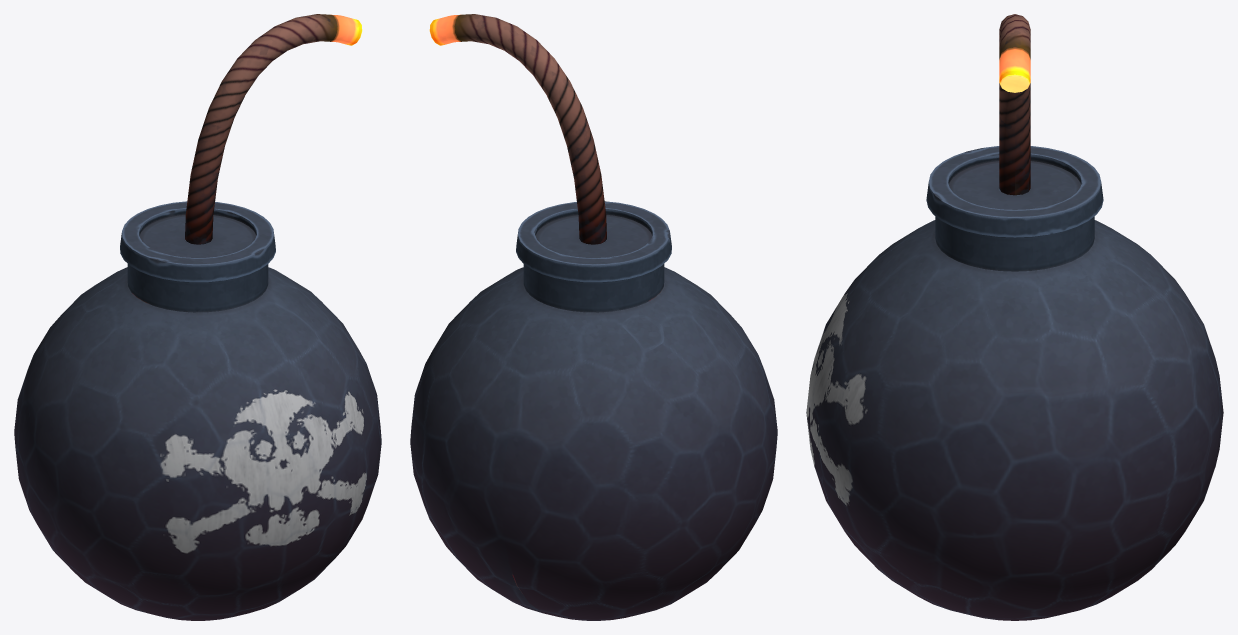
Rendered from stylized_bomb.glb.
3 renders of one model, left to right at view 1: azimuth 30°, elevation 25°; view 2: azimuth 150°, elevation 25°; view 3: azimuth 270°, elevation 25°, orthographic. The views are drawn at different scales.
Visible parts, largest first — view 1: bomb_low, Rope_low; view 2: bomb_low, Rope_low; view 3: bomb_low, Rope_low.
Boxes of the visible parts, box(x1,y1,x2,y2) form: bomb_low: box(14, 201, 381, 620); Rope_low: box(185, 14, 362, 244); bomb_low: box(410, 201, 777, 620); Rope_low: box(429, 14, 606, 244); bomb_low: box(806, 146, 1223, 620); Rope_low: box(999, 14, 1030, 195).
Size of the model in its own units: 0.0201 by 0.0336 by 0.02.
1 material, 1 textured.
